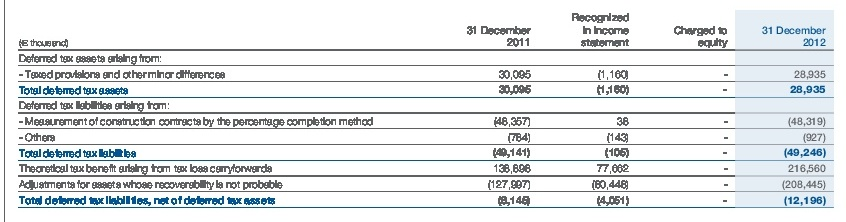table: (0, 0, 846, 222)
